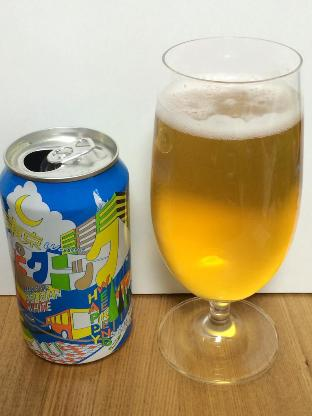Can: (0, 122, 154, 378)
